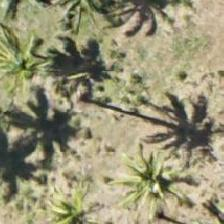coconut_tree: (106, 133, 196, 223), (0, 10, 60, 100), (33, 173, 123, 223)
